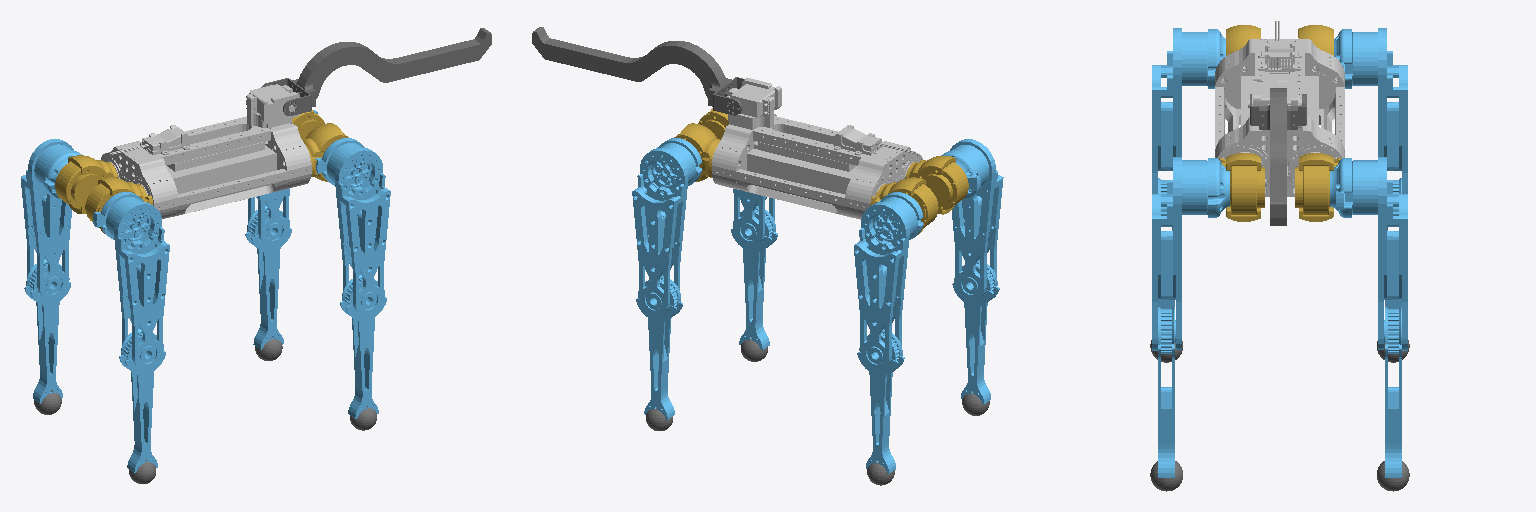
The robot description file, URDF, robot "namiashi_description":
<robot name="namiashi_description">
  <link name="trunk">
    <inertial>
      <origin xyz="0 0 0" rpy="0 -0 0"/>
      <mass value="0"/>
      <inertia ixx="0" ixy="0" ixz="0" iyy="0" iyz="0" izz="0"/>
    </inertial>
  </link>
  <link name="trunk_interia">
    <inertial>
      <origin xyz="0.0018500000005587935 0.008369999937713146 0.008940000087022781" rpy="0 -0 0"/>
      <mass value="1.48341"/>
      <inertia ixx="0.00189" ixy="-0.00001" ixz="0.00049" iyy="0.00857" iyz="-0.00001" izz="0.009"/>
    </inertial>
    <visual>
      <origin xyz="0 0 0" rpy="0 -0 0"/>
      <geometry>
        <mesh filename="package://namiashi_description/meshes/trunk.stl" scale="1 1 1"/>
      </geometry>
      <material name="">
        <color rgba="0.8235294222831726 0.8235294222831726 0.8235294222831726 1"/>
      </material>
    </visual>
    <collision>
      <origin xyz="0 0 0.015643581748008728" rpy="0 -0 0"/>
      <geometry>
        <box size="0.19874510169029236 0.12590473890304565 0.09287058562040329"/>
      </geometry>
    </collision>
  </link>
  <link name="arm">
    <inertial>
      <origin xyz="0.0831499993801117 -0.023360000923275948 0.0076500000432133675" rpy="0 -0 0"/>
      <mass value="0.04805"/>
      <inertia ixx="0.00002" ixy="-0.00001" ixz="0.00001" iyy="0.00034" iyz="-0" izz="0.00034"/>
    </inertial>
    <visual>
      <origin xyz="0 0.02500000037252903 0" rpy="0 -0 0"/>
      <geometry>
        <mesh filename="package://namiashi_description/meshes/arm.stl" scale="1 1 1"/>
      </geometry>
      <material name="">
        <color rgba="0.4941176474094391 0.4941176474094391 0.4941176474094391 1"/>
      </material>
    </visual>
    <collision>
      <origin xyz="0.07999999821186066 -0.00139999995008111 0.03799999877810478" rpy="0 -0 0"/>
      <geometry>
        <box size="0.06199999898672104 0.01600000075995922 0.024000000208616257"/>
      </geometry>
    </collision>
    <collision>
      <origin xyz="0.125 -0.00139999995008111 0.01899999938905239" rpy="0 0.7519999742507935 0"/>
      <geometry>
        <box size="0.05849999934434891 0.01600000075995922 0.024000000208616257"/>
      </geometry>
    </collision>
    <collision>
      <origin xyz="0.20000000298023224 -0.00139999995008111 0.0020000000949949026" rpy="0 -0 0"/>
      <geometry>
        <box size="0.10000000149011612 0.01600000075995922 0.019999999552965164"/>
      </geometry>
    </collision>
    <collision>
      <origin xyz="0.26499998569488525 -0.00139999995008111 0.01600000075995922" rpy="1.5707499980926514 -0 0"/>
      <geometry>
        <cylinder radius="0.024000000208616257" length="0.01600000075995922"/>
      </geometry>
    </collision>
  </link>
  <link name="RL_hip">
    <inertial>
      <origin xyz="0.0021200000774115324 -0.0016899999463930726 0" rpy="0 -0 0"/>
      <mass value="0.1698"/>
      <inertia ixx="0.00004" ixy="0" ixz="0" iyy="0.00006" iyz="0" izz="0.00005"/>
    </inertial>
    <visual>
      <origin xyz="0 0 0" rpy="3.141590118408203 -0 -3.1315951347351074"/>
      <geometry>
        <mesh filename="package://namiashi_description/meshes/hip.stl" scale="1 1 1"/>
      </geometry>
      <material name="">
        <color rgba="0.8117647171020508 0.6784313917160034 0.3019607961177826 1"/>
      </material>
    </visual>
    <collision>
      <origin xyz="0 0 0" rpy="1.5707499980926514 -0 0"/>
      <geometry>
        <cylinder radius="0.03400000184774399" length="0.03999999910593033"/>
      </geometry>
    </collision>
  </link>
  <link name="RL_thigh">
    <inertial>
      <origin xyz="0.00009999999747378752 -0.02501000091433525 -0.01358999963849783" rpy="0 -0 0"/>
      <mass value="0.020748"/>
      <inertia ixx="0.00032" ixy="0" ixz="0" iyy="0.0003" iyz="-0.00007" izz="0.00008"/>
    </inertial>
    <visual>
      <origin xyz="0 0 0" rpy="0 -0 3.141590118408203"/>
      <geometry>
        <mesh filename="package://namiashi_description/meshes/thigh.stl" scale="1 1 1"/>
      </geometry>
      <material name="">
        <color rgba="0.4627451002597809 0.800000011920929 0.9921568632125854 1"/>
      </material>
    </visual>
    <collision>
      <origin xyz="0 0 -0.07000000029802322" rpy="0 -0 0"/>
      <geometry>
        <box size="0.09001903235912323 0.03500000014901161 0.24096406996250153"/>
      </geometry>
    </collision>
  </link>
  <link name="RL_calf">
    <inertial>
      <origin xyz="0 0.000029999999242136255 -0.04405999928712845" rpy="0 -0 0"/>
      <mass value="0.02133"/>
      <inertia ixx="0.00007" ixy="0" ixz="0" iyy="0.00007" iyz="0" izz="0"/>
    </inertial>
    <visual>
      <origin xyz="0 0 0" rpy="0 -0 0"/>
      <geometry>
        <mesh filename="package://namiashi_description/meshes/calf.stl" scale="1 1 1"/>
      </geometry>
      <material name="">
        <color rgba="0.4627451002597809 0.800000011920929 0.9921568632125854 1"/>
      </material>
    </visual>
    <collision>
      <origin xyz="0 0 -0.07599999755620956" rpy="0 -0 0"/>
      <geometry>
        <box size="0.01600000075995922 0.01600000075995922 0.15199999511241913"/>
      </geometry>
    </collision>
  </link>
  <link name="RL_foot">
    <inertial>
      <origin xyz="0 0 -0.005630000028759241" rpy="0 -0 0"/>
      <mass value="0.00528"/>
      <inertia ixx="0.00001" ixy="0" ixz="0" iyy="0.00001" iyz="0" izz="0.00001"/>
    </inertial>
    <visual>
      <origin xyz="0 0 0" rpy="0 -0 0"/>
      <geometry>
        <sphere radius="0.01600000075995922"/>
      </geometry>
      <material name="">
        <color rgba="0.4941176474094391 0.4941176474094391 0.4941176474094391 1"/>
      </material>
    </visual>
    <collision>
      <origin xyz="0 0 0" rpy="0 -0 0"/>
      <geometry>
        <sphere radius="0.01600000075995922"/>
      </geometry>
    </collision>
  </link>
  <link name="FL_hip">
    <inertial>
      <origin xyz="-0.0021200000774115324 -0.0016899999463930726 0" rpy="0 -0 0"/>
      <mass value="0.1698"/>
      <inertia ixx="0.00004" ixy="0" ixz="0" iyy="0.00006" iyz="0" izz="0.00005"/>
    </inertial>
    <visual>
      <origin xyz="0 0 0" rpy="0 -0 0"/>
      <geometry>
        <mesh filename="package://namiashi_description/meshes/hip.stl" scale="1 1 1"/>
      </geometry>
      <material name="">
        <color rgba="0.8117647171020508 0.6784313917160034 0.3019607961177826 1"/>
      </material>
    </visual>
    <collision>
      <origin xyz="0 0 0" rpy="1.5707499980926514 -0 0"/>
      <geometry>
        <cylinder radius="0.03400000184774399" length="0.03999999910593033"/>
      </geometry>
    </collision>
  </link>
  <link name="FL_thigh">
    <inertial>
      <origin xyz="0.00009999999747378752 -0.02501000091433525 -0.01358999963849783" rpy="0 -0 0"/>
      <mass value="0.020748"/>
      <inertia ixx="0.00032" ixy="0" ixz="0" iyy="0.0003" iyz="-0.00007" izz="0.00008"/>
    </inertial>
    <visual>
      <origin xyz="0 0 0" rpy="0 -0 3.141590118408203"/>
      <geometry>
        <mesh filename="package://namiashi_description/meshes/thigh.stl" scale="1 1 1"/>
      </geometry>
      <material name="">
        <color rgba="0.4627451002597809 0.800000011920929 0.9921568632125854 1"/>
      </material>
    </visual>
    <collision>
      <origin xyz="0 0 -0.07000000029802322" rpy="0 -0 0"/>
      <geometry>
        <box size="0.05999999865889549 0.03500000014901161 0.20000000298023224"/>
      </geometry>
    </collision>
  </link>
  <link name="FL_calf">
    <inertial>
      <origin xyz="0 0.000029999999242136255 -0.04405999928712845" rpy="0 -0 0"/>
      <mass value="0.02133"/>
      <inertia ixx="0.00007" ixy="0" ixz="0" iyy="0.00007" iyz="0" izz="0"/>
    </inertial>
    <visual>
      <origin xyz="0 0 0" rpy="0 -0 0"/>
      <geometry>
        <mesh filename="package://namiashi_description/meshes/calf.stl" scale="1 1 1"/>
      </geometry>
      <material name="">
        <color rgba="0.4627451002597809 0.800000011920929 0.9921568632125854 1"/>
      </material>
    </visual>
    <collision>
      <origin xyz="0 0 -0.07599999755620956" rpy="0 -0 0"/>
      <geometry>
        <box size="0.01600000075995922 0.01600000075995922 0.15199999511241913"/>
      </geometry>
    </collision>
  </link>
  <link name="FL_foot">
    <inertial>
      <origin xyz="0 0 -0.005630000028759241" rpy="0 -0 0"/>
      <mass value="0.00528"/>
      <inertia ixx="0.00001" ixy="0" ixz="0" iyy="0.00001" iyz="0" izz="0.00001"/>
    </inertial>
    <visual>
      <origin xyz="0 0 0" rpy="0 -0 0"/>
      <geometry>
        <sphere radius="0.01600000075995922"/>
      </geometry>
      <material name="">
        <color rgba="0.4941176474094391 0.4941176474094391 0.4941176474094391 1"/>
      </material>
    </visual>
    <collision>
      <origin xyz="0 0 0" rpy="0 -0 0"/>
      <geometry>
        <sphere radius="0.01600000075995922"/>
      </geometry>
    </collision>
  </link>
  <link name="RR_hip">
    <inertial>
      <origin xyz="0.0021200000774115324 0.0016899999463930726 0" rpy="0 -0 0"/>
      <mass value="0.1698"/>
      <inertia ixx="0.00004" ixy="0" ixz="0" iyy="0.00006" iyz="0" izz="0.00005"/>
    </inertial>
    <visual>
      <origin xyz="0 0 0" rpy="0 -0 3.141590118408203"/>
      <geometry>
        <mesh filename="package://namiashi_description/meshes/hip.stl" scale="1 1 1"/>
      </geometry>
      <material name="">
        <color rgba="0.8117647171020508 0.6784313917160034 0.3019607961177826 1"/>
      </material>
    </visual>
    <collision>
      <origin xyz="0 0 0" rpy="1.5707499980926514 -0 0"/>
      <geometry>
        <cylinder radius="0.03400000184774399" length="0.03999999910593033"/>
      </geometry>
    </collision>
  </link>
  <link name="RR_thigh">
    <inertial>
      <origin xyz="-0.00009999999747378752 0.02501000091433525 -0.01358999963849783" rpy="0 -0 0"/>
      <mass value="0.020748"/>
      <inertia ixx="0.00032" ixy="0" ixz="0" iyy="0.0003" iyz="0.00007" izz="0.00008"/>
    </inertial>
    <visual>
      <origin xyz="0 0 0" rpy="0 -0 0"/>
      <geometry>
        <mesh filename="package://namiashi_description/meshes/thigh.stl" scale="1 1 1"/>
      </geometry>
      <material name="">
        <color rgba="0.4627451002597809 0.800000011920929 0.9921568632125854 1"/>
      </material>
    </visual>
    <collision>
      <origin xyz="0 0 -0.07000000029802322" rpy="0 -0 0"/>
      <geometry>
        <box size="0.05999999865889549 0.03500000014901161 0.20000000298023224"/>
      </geometry>
    </collision>
  </link>
  <link name="RR_calf">
    <inertial>
      <origin xyz="0 -0.000029999999242136255 -0.04405999928712845" rpy="0 -0 0"/>
      <mass value="0.02133"/>
      <inertia ixx="0.00007" ixy="0" ixz="0" iyy="0.00007" iyz="0" izz="0"/>
    </inertial>
    <visual>
      <origin xyz="0 0 0" rpy="0 -0 0"/>
      <geometry>
        <mesh filename="package://namiashi_description/meshes/calf.stl" scale="1 1 1"/>
      </geometry>
      <material name="">
        <color rgba="0.4627451002597809 0.800000011920929 0.9921568632125854 1"/>
      </material>
    </visual>
    <collision>
      <origin xyz="0 0 -0.07599999755620956" rpy="0 -0 0"/>
      <geometry>
        <box size="0.01600000075995922 0.01600000075995922 0.15199999511241913"/>
      </geometry>
    </collision>
  </link>
  <link name="RR_foot">
    <inertial>
      <origin xyz="0 0 -0.005630000028759241" rpy="0 -0 0"/>
      <mass value="0.00528"/>
      <inertia ixx="0.00001" ixy="0" ixz="0" iyy="0.00001" iyz="0" izz="0.00001"/>
    </inertial>
    <visual>
      <origin xyz="0 0 0" rpy="0 -0 0"/>
      <geometry>
        <sphere radius="0.01600000075995922"/>
      </geometry>
      <material name="">
        <color rgba="0.4941176474094391 0.4941176474094391 0.4941176474094391 1"/>
      </material>
    </visual>
    <collision>
      <origin xyz="0 0 0" rpy="0 -0 0"/>
      <geometry>
        <sphere radius="0.01600000075995922"/>
      </geometry>
    </collision>
  </link>
  <link name="FR_hip">
    <inertial>
      <origin xyz="-0.0021200000774115324 0.0016899999463930726 0" rpy="0 -0 0"/>
      <mass value="0.1698"/>
      <inertia ixx="0.00004" ixy="0" ixz="0" iyy="0.00006" iyz="0" izz="0.00005"/>
    </inertial>
    <visual>
      <origin xyz="0 0 0" rpy="3.141590118408203 -0 0"/>
      <geometry>
        <mesh filename="package://namiashi_description/meshes/hip.stl" scale="1 1 1"/>
      </geometry>
      <material name="">
        <color rgba="0.8117647171020508 0.6784313917160034 0.3019607961177826 1"/>
      </material>
    </visual>
    <collision>
      <origin xyz="0 0 0" rpy="1.5707499980926514 -0 0"/>
      <geometry>
        <cylinder radius="0.03400000184774399" length="0.03999999910593033"/>
      </geometry>
    </collision>
  </link>
  <link name="FR_thigh">
    <inertial>
      <origin xyz="-0.00009999999747378752 0.02501000091433525 -0.01358999963849783" rpy="0 -0 0"/>
      <mass value="0.020748"/>
      <inertia ixx="0.00032" ixy="0" ixz="0" iyy="0.0003" iyz="0.00007" izz="0.00008"/>
    </inertial>
    <visual>
      <origin xyz="0 0 0" rpy="0 -0 0"/>
      <geometry>
        <mesh filename="package://namiashi_description/meshes/thigh.stl" scale="1 1 1"/>
      </geometry>
      <material name="">
        <color rgba="0.4627451002597809 0.800000011920929 0.9921568632125854 1"/>
      </material>
    </visual>
    <collision>
      <origin xyz="0 0 -0.07000000029802322" rpy="0 -0 0"/>
      <geometry>
        <box size="0.05999999865889549 0.03500000014901161 0.20000000298023224"/>
      </geometry>
    </collision>
  </link>
  <link name="FR_calf">
    <inertial>
      <origin xyz="0 -0.000029999999242136255 -0.04405999928712845" rpy="0 -0 0"/>
      <mass value="0.02133"/>
      <inertia ixx="0.00007" ixy="0" ixz="0" iyy="0.00007" iyz="0" izz="0"/>
    </inertial>
    <visual>
      <origin xyz="0 0 0" rpy="0 -0 0"/>
      <geometry>
        <mesh filename="package://namiashi_description/meshes/calf.stl" scale="1 1 1"/>
      </geometry>
      <material name="">
        <color rgba="0.4627451002597809 0.800000011920929 0.9921568632125854 1"/>
      </material>
    </visual>
    <collision>
      <origin xyz="0 0 -0.07599999755620956" rpy="0 -0 0"/>
      <geometry>
        <box size="0.01600000075995922 0.01600000075995922 0.15199999511241913"/>
      </geometry>
    </collision>
  </link>
  <link name="FR_foot">
    <inertial>
      <origin xyz="0 0 -0.005630000028759241" rpy="0 -0 0"/>
      <mass value="0.00528"/>
      <inertia ixx="0.00001" ixy="0" ixz="0" iyy="0.00001" iyz="0" izz="0.00001"/>
    </inertial>
    <visual>
      <origin xyz="0 0 0" rpy="0 -0 0"/>
      <geometry>
        <sphere radius="0.01600000075995922"/>
      </geometry>
      <material name="">
        <color rgba="0.4941176474094391 0.4941176474094391 0.4941176474094391 1"/>
      </material>
    </visual>
    <collision>
      <origin xyz="0 0 0" rpy="0 -0 0"/>
      <geometry>
        <sphere radius="0.01600000075995922"/>
      </geometry>
    </collision>
  </link>
  <joint name="trunk_to_trunk_inertia" type="fixed">
    <origin xyz="0 0 0" rpy="0 -0 0"/>
    <parent link="trunk"/>
    <child link="trunk_interia"/>
    <axis xyz="1 0 0"/>
    <limit lower="0" upper="0" effort="0" velocity="0"/>
  </joint>
  <joint name="arm_pitch_joint" type="revolute">
    <origin xyz="0.09700000286102295 0 0.06599999964237213" rpy="0 -0 0"/>
    <parent link="trunk"/>
    <child link="arm"/>
    <axis xyz="0 1 0"/>
    <limit lower="-2.3" upper="0.85" effort="6.865" velocity="8.727"/>
  </joint>
  <joint name="RL_hip_joint" type="revolute">
    <origin xyz="-0.1469999998807907 0.03440000116825104 0" rpy="0 -0 0"/>
    <parent link="trunk"/>
    <child link="RL_hip"/>
    <axis xyz="1 0 0"/>
    <limit lower="-0.785" upper="1.05" effort="1.5" velocity="33.5"/>
    <dynamics damping="0" friction="0"/>
  </joint>
  <joint name="RL_thigh_joint" type="revolute">
    <origin xyz="0 0.07473000138998032 0" rpy="0 -0 0"/>
    <parent link="RL_hip"/>
    <child link="RL_thigh"/>
    <axis xyz="0 1 0"/>
    <limit lower="-2.62" upper="2.62" effort="1.5" velocity="33.5"/>
    <dynamics damping="0" friction="0"/>
  </joint>
  <joint name="RL_calf_joint" type="revolute">
    <origin xyz="0 0 -0.15279999375343323" rpy="0 -0 0"/>
    <parent link="RL_thigh"/>
    <child link="RL_calf"/>
    <axis xyz="0 1 0"/>
    <limit lower="-2.62" upper="2.62" effort="2.205" velocity="33.5"/>
    <dynamics damping="0" friction="0"/>
  </joint>
  <joint name="RL_foot_fixed" type="fixed">
    <origin xyz="0 0 -0.15279999375343323" rpy="0 -0 0"/>
    <parent link="RL_calf"/>
    <child link="RL_foot"/>
    <axis xyz="1 0 0"/>
    <limit lower="0" upper="0" effort="0" velocity="0"/>
  </joint>
  <joint name="FL_hip_joint" type="revolute">
    <origin xyz="0.1469999998807907 0.03440000116825104 0" rpy="0 -0 0"/>
    <parent link="trunk"/>
    <child link="FL_hip"/>
    <axis xyz="1 0 0"/>
    <limit lower="-0.785" upper="1.05" effort="1.5" velocity="33.5"/>
    <dynamics damping="0" friction="0"/>
  </joint>
  <joint name="FL_thigh_joint" type="revolute">
    <origin xyz="0 0.07473000138998032 0" rpy="0 -0 0"/>
    <parent link="FL_hip"/>
    <child link="FL_thigh"/>
    <axis xyz="0 1 0"/>
    <limit lower="-2.62" upper="2.62" effort="1.5" velocity="33.5"/>
    <dynamics damping="0" friction="0"/>
  </joint>
  <joint name="FL_calf_joint" type="revolute">
    <origin xyz="0 0 -0.15279999375343323" rpy="0 -0 0"/>
    <parent link="FL_thigh"/>
    <child link="FL_calf"/>
    <axis xyz="0 1 0"/>
    <limit lower="-2.62" upper="2.62" effort="2.205" velocity="33.5"/>
    <dynamics damping="0" friction="0"/>
  </joint>
  <joint name="FL_foot_fixed" type="fixed">
    <origin xyz="0 0 -0.15279999375343323" rpy="0 -0 0"/>
    <parent link="FL_calf"/>
    <child link="FL_foot"/>
    <axis xyz="1 0 0"/>
    <limit lower="0" upper="0" effort="0" velocity="0"/>
  </joint>
  <joint name="RR_hip_joint" type="revolute">
    <origin xyz="-0.1469999998807907 -0.03440000116825104 0" rpy="0 -0 0"/>
    <parent link="trunk"/>
    <child link="RR_hip"/>
    <axis xyz="1 0 0"/>
    <limit lower="-1.05" upper="0.785" effort="1.5" velocity="33.5"/>
    <dynamics damping="0" friction="0"/>
  </joint>
  <joint name="RR_thigh_joint" type="revolute">
    <origin xyz="0 -0.07473000138998032 0" rpy="0 -0 0"/>
    <parent link="RR_hip"/>
    <child link="RR_thigh"/>
    <axis xyz="0 1 0"/>
    <limit lower="-2.62" upper="2.62" effort="1.5" velocity="33.5"/>
    <dynamics damping="0" friction="0"/>
  </joint>
  <joint name="RR_calf_joint" type="revolute">
    <origin xyz="0 0 -0.15279999375343323" rpy="0 -0 0"/>
    <parent link="RR_thigh"/>
    <child link="RR_calf"/>
    <axis xyz="0 1 0"/>
    <limit lower="-2.62" upper="2.62" effort="2.205" velocity="33.5"/>
    <dynamics damping="0" friction="0"/>
  </joint>
  <joint name="RR_foot_fixed" type="fixed">
    <origin xyz="0 0 -0.15279999375343323" rpy="0 -0 0"/>
    <parent link="RR_calf"/>
    <child link="RR_foot"/>
    <axis xyz="1 0 0"/>
    <limit lower="0" upper="0" effort="0" velocity="0"/>
  </joint>
  <joint name="FR_hip_joint" type="revolute">
    <origin xyz="0.1469999998807907 -0.03440000116825104 0" rpy="0 -0 0"/>
    <parent link="trunk"/>
    <child link="FR_hip"/>
    <axis xyz="1 0 0"/>
    <limit lower="-1.05" upper="0.785" effort="1.5" velocity="33.5"/>
    <dynamics damping="0" friction="0"/>
  </joint>
  <joint name="FR_thigh_joint" type="revolute">
    <origin xyz="0 -0.07473000138998032 0" rpy="0 -0 0"/>
    <parent link="FR_hip"/>
    <child link="FR_thigh"/>
    <axis xyz="0 1 0"/>
    <limit lower="-2.62" upper="2.62" effort="1.5" velocity="33.5"/>
    <dynamics damping="0" friction="0"/>
  </joint>
  <joint name="FR_calf_joint" type="revolute">
    <origin xyz="0 0 -0.15279999375343323" rpy="0 -0 0"/>
    <parent link="FR_thigh"/>
    <child link="FR_calf"/>
    <axis xyz="0 1 0"/>
    <limit lower="-2.62" upper="2.62" effort="2.205" velocity="33.5"/>
    <dynamics damping="0" friction="0"/>
  </joint>
  <joint name="FR_foot_fixed" type="fixed">
    <origin xyz="0 0 -0.15279999375343323" rpy="0 -0 0"/>
    <parent link="FR_calf"/>
    <child link="FR_foot"/>
    <axis xyz="1 0 0"/>
    <limit lower="0" upper="0" effort="0" velocity="0"/>
  </joint>
  <material name="black">
    <color rgba="0 0 0 1"/>
  </material>
  <material name="blue">
    <color rgba="0 0 0.8 1"/>
  </material>
  <material name="green">
    <color rgba="0 0.8 0 1"/>
  </material>
  <material name="grey">
    <color rgba="0.2 0.2 0.2 1"/>
  </material>
  <material name="silver">
    <color rgba="0.913725490196 0.913725490196 0.847058823529 1"/>
  </material>
  <material name="orange">
    <color rgba="1 0.423529411765 0.0392156862745 1"/>
  </material>
  <material name="brown">
    <color rgba="0.870588235294 0.811764705882 0.764705882353 1"/>
  </material>
  <material name="white_gray">
    <color rgba="0.823529411765 0.823529411765 0.823529411765 1"/>
  </material>
  <material name="gold">
    <color rgba="0.811764705882 0.678431372549 0.301960784314 1"/>
  </material>
  <material name="white_blue">
    <color rgba="0.462745098039 0.8 0.992156862745 1"/>
  </material>
  <material name="white_black">
    <color rgba="0.494117647059 0.494117647059 0.494117647059 1"/>
  </material>
  <material name="red">
    <color rgba="0.8 0 0 1"/>
  </material>
  <material name="white">
    <color rgba="1 1 1 1"/>
  </material>
</robot>

--- Render facts (derived) ---
The picture shows the robot from 3 angles, left to right: view 1: azimuth 30°, elevation 25°; view 2: azimuth 150°, elevation 25°; view 3: azimuth 270°, elevation 25°; orthographic projection.
Robot: namiashi_description — 19 links, 18 joints (13 revolute, 5 fixed); root link trunk; default pose: every joint at zero.
Links seen in each view (by area): view 1: trunk_interia, RR_thigh, FR_thigh, RL_thigh, arm, FR_calf, RR_calf, FL_calf, RL_calf, RL_hip, FL_thigh, RR_hip (+1 smaller); view 2: trunk_interia, RL_thigh, FL_thigh, RR_thigh, arm, FL_calf, FR_calf, RL_calf, RR_calf, RR_hip, FR_thigh, RL_hip (+1 smaller); view 3: trunk_interia, FR_thigh, FL_thigh, RL_thigh, RR_thigh, arm, FL_calf, FR_calf, FL_hip, FR_hip, RL_hip, RR_hip (+2 smaller).
Boxes of the visible links, x1,y1,x2,y2 form: trunk_interia: (101, 84, 311, 218); RR_thigh: (93, 192, 169, 369); FR_thigh: (315, 138, 390, 315); RL_thigh: (21, 139, 81, 300); arm: (261, 28, 491, 115); FR_calf: (340, 275, 386, 418); RR_calf: (119, 329, 165, 472); FL_calf: (245, 206, 291, 349); RL_calf: (24, 259, 70, 403); RL_hip: (55, 155, 117, 213); FL_thigh: (248, 110, 317, 246); RR_hip: (85, 177, 152, 233); trunk_interia: (712, 78, 922, 219); RL_thigh: (854, 192, 923, 370); FL_thigh: (632, 138, 701, 316); RR_thigh: (941, 139, 1003, 300); arm: (532, 27, 744, 115); FL_calf: (636, 275, 682, 419); FR_calf: (731, 206, 777, 350); RL_calf: (857, 329, 904, 473); RR_calf: (952, 260, 999, 404); RR_hip: (905, 156, 968, 214); FR_thigh: (733, 189, 774, 246); RL_hip: (870, 177, 938, 234); trunk_interia: (1215, 21, 1344, 196); FR_thigh: (1152, 157, 1229, 350); FL_thigh: (1330, 157, 1407, 350); RL_thigh: (1334, 28, 1407, 193); RR_thigh: (1152, 28, 1225, 193); arm: (1250, 88, 1306, 225); FL_calf: (1384, 307, 1401, 477); FR_calf: (1158, 307, 1175, 477); FL_hip: (1295, 153, 1340, 221); FR_hip: (1219, 153, 1264, 221); RL_hip: (1298, 25, 1333, 55); RR_hip: (1226, 25, 1260, 55).
Size in the robot's own frame: 0.556 by 0.2503 by 0.4373 metres.
14 mesh visuals loaded from 5 distinct referenced files (5 binary STL).
